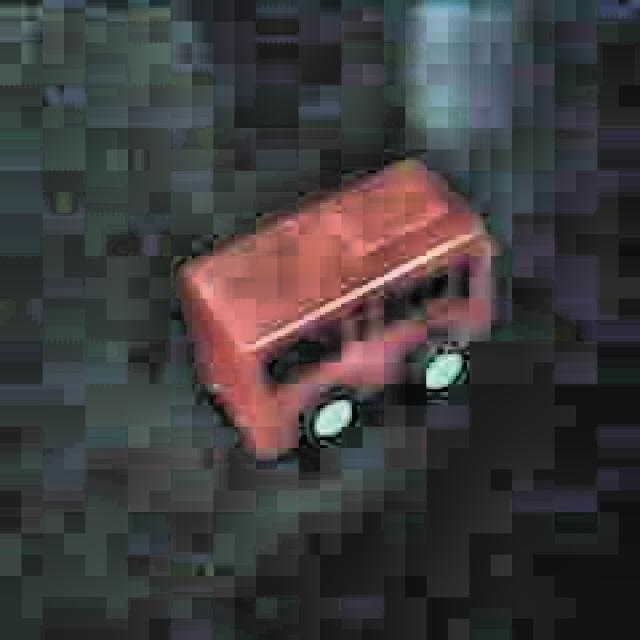bus: (175, 150, 493, 446)
